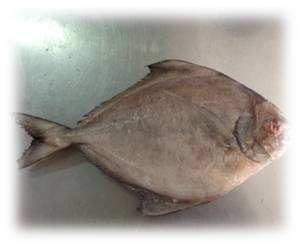Ikan Bawal: (10, 49, 289, 221)
